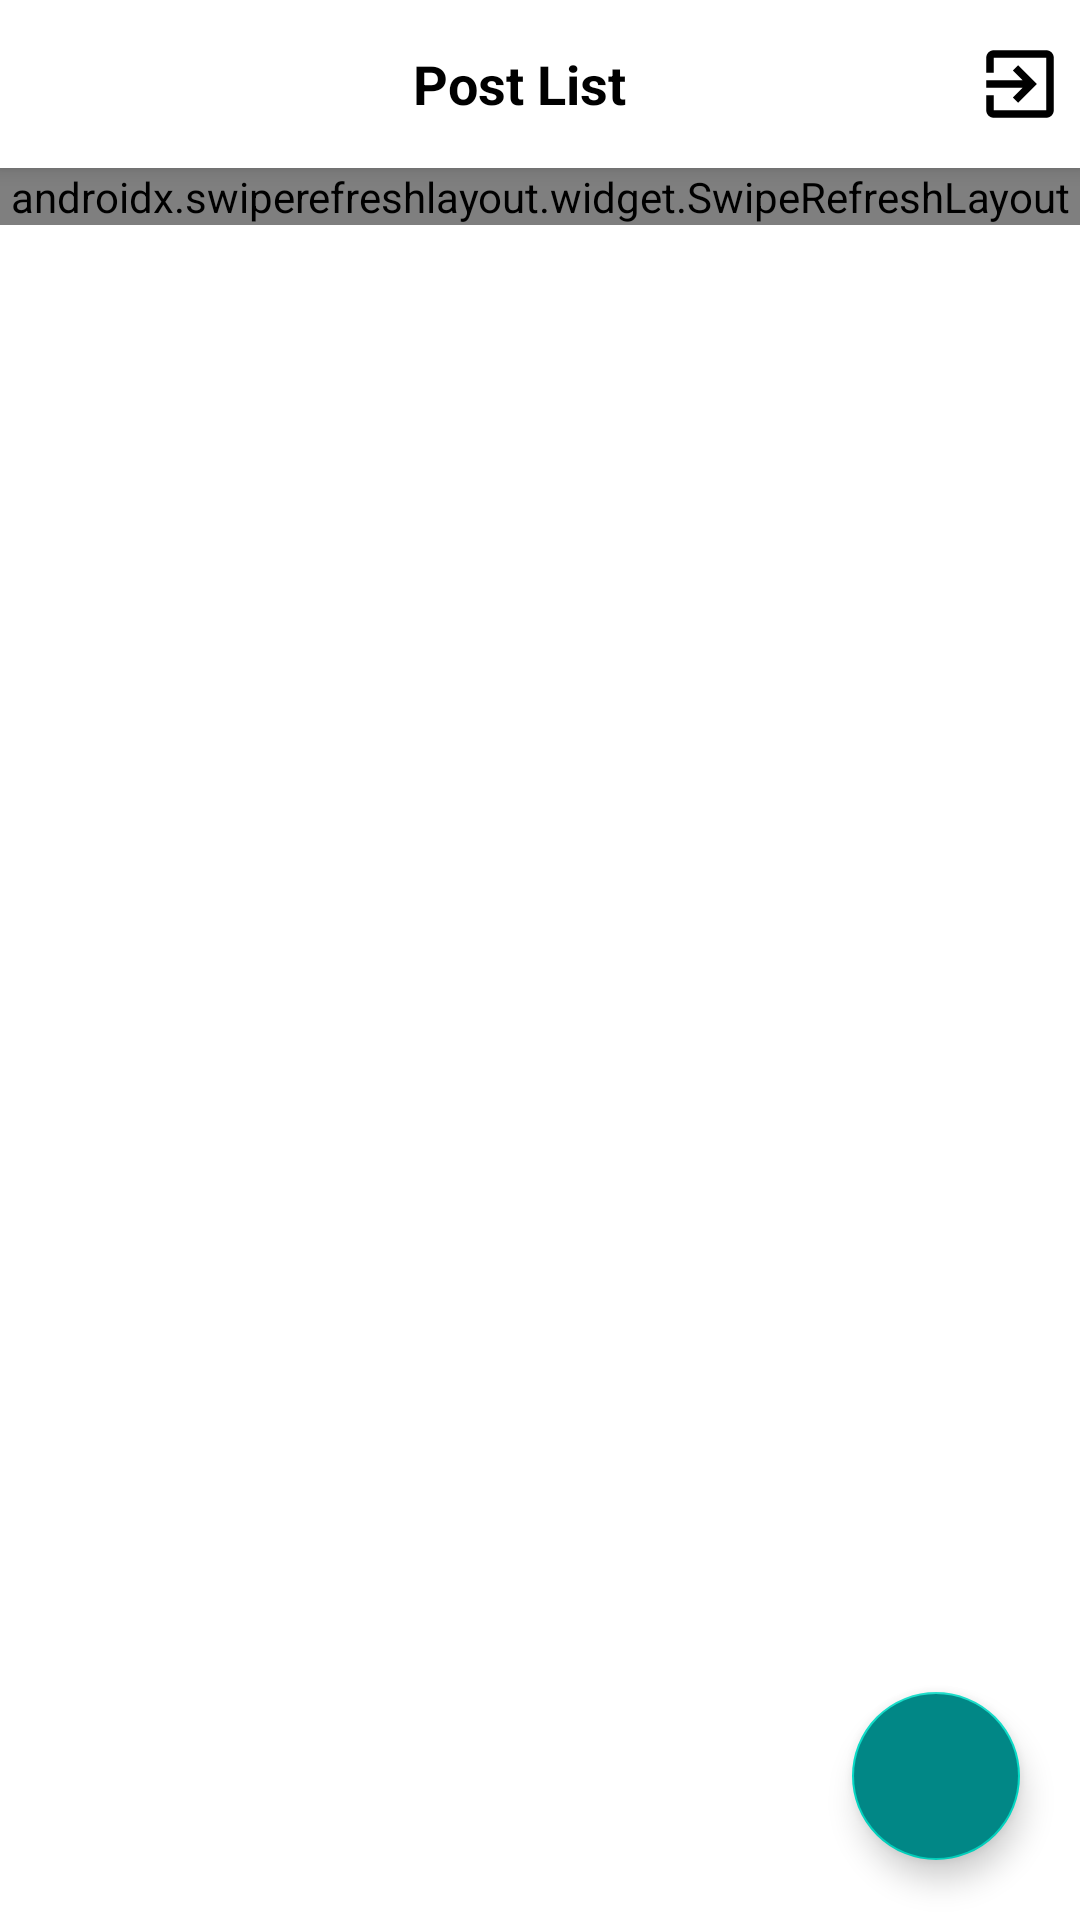

Icons on this 1080w x 1920h Android screen, each with the point to tap as [x,y]:
exit to app: [1020,84]
